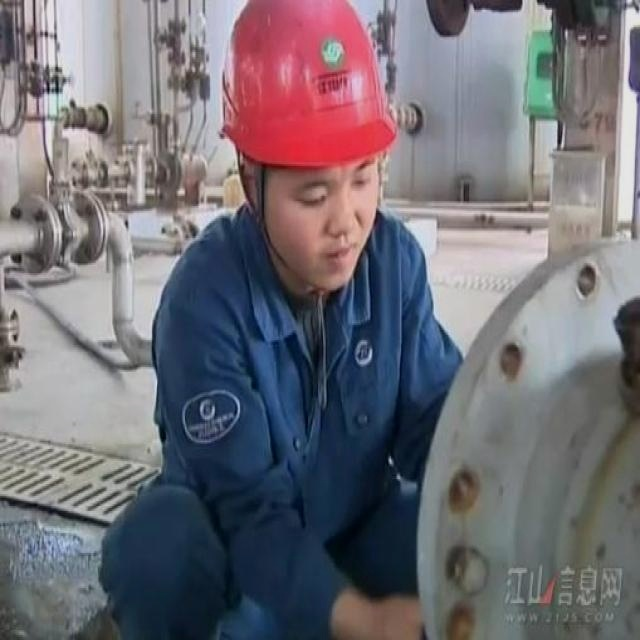Con_Casco: (221, 0, 386, 290)
